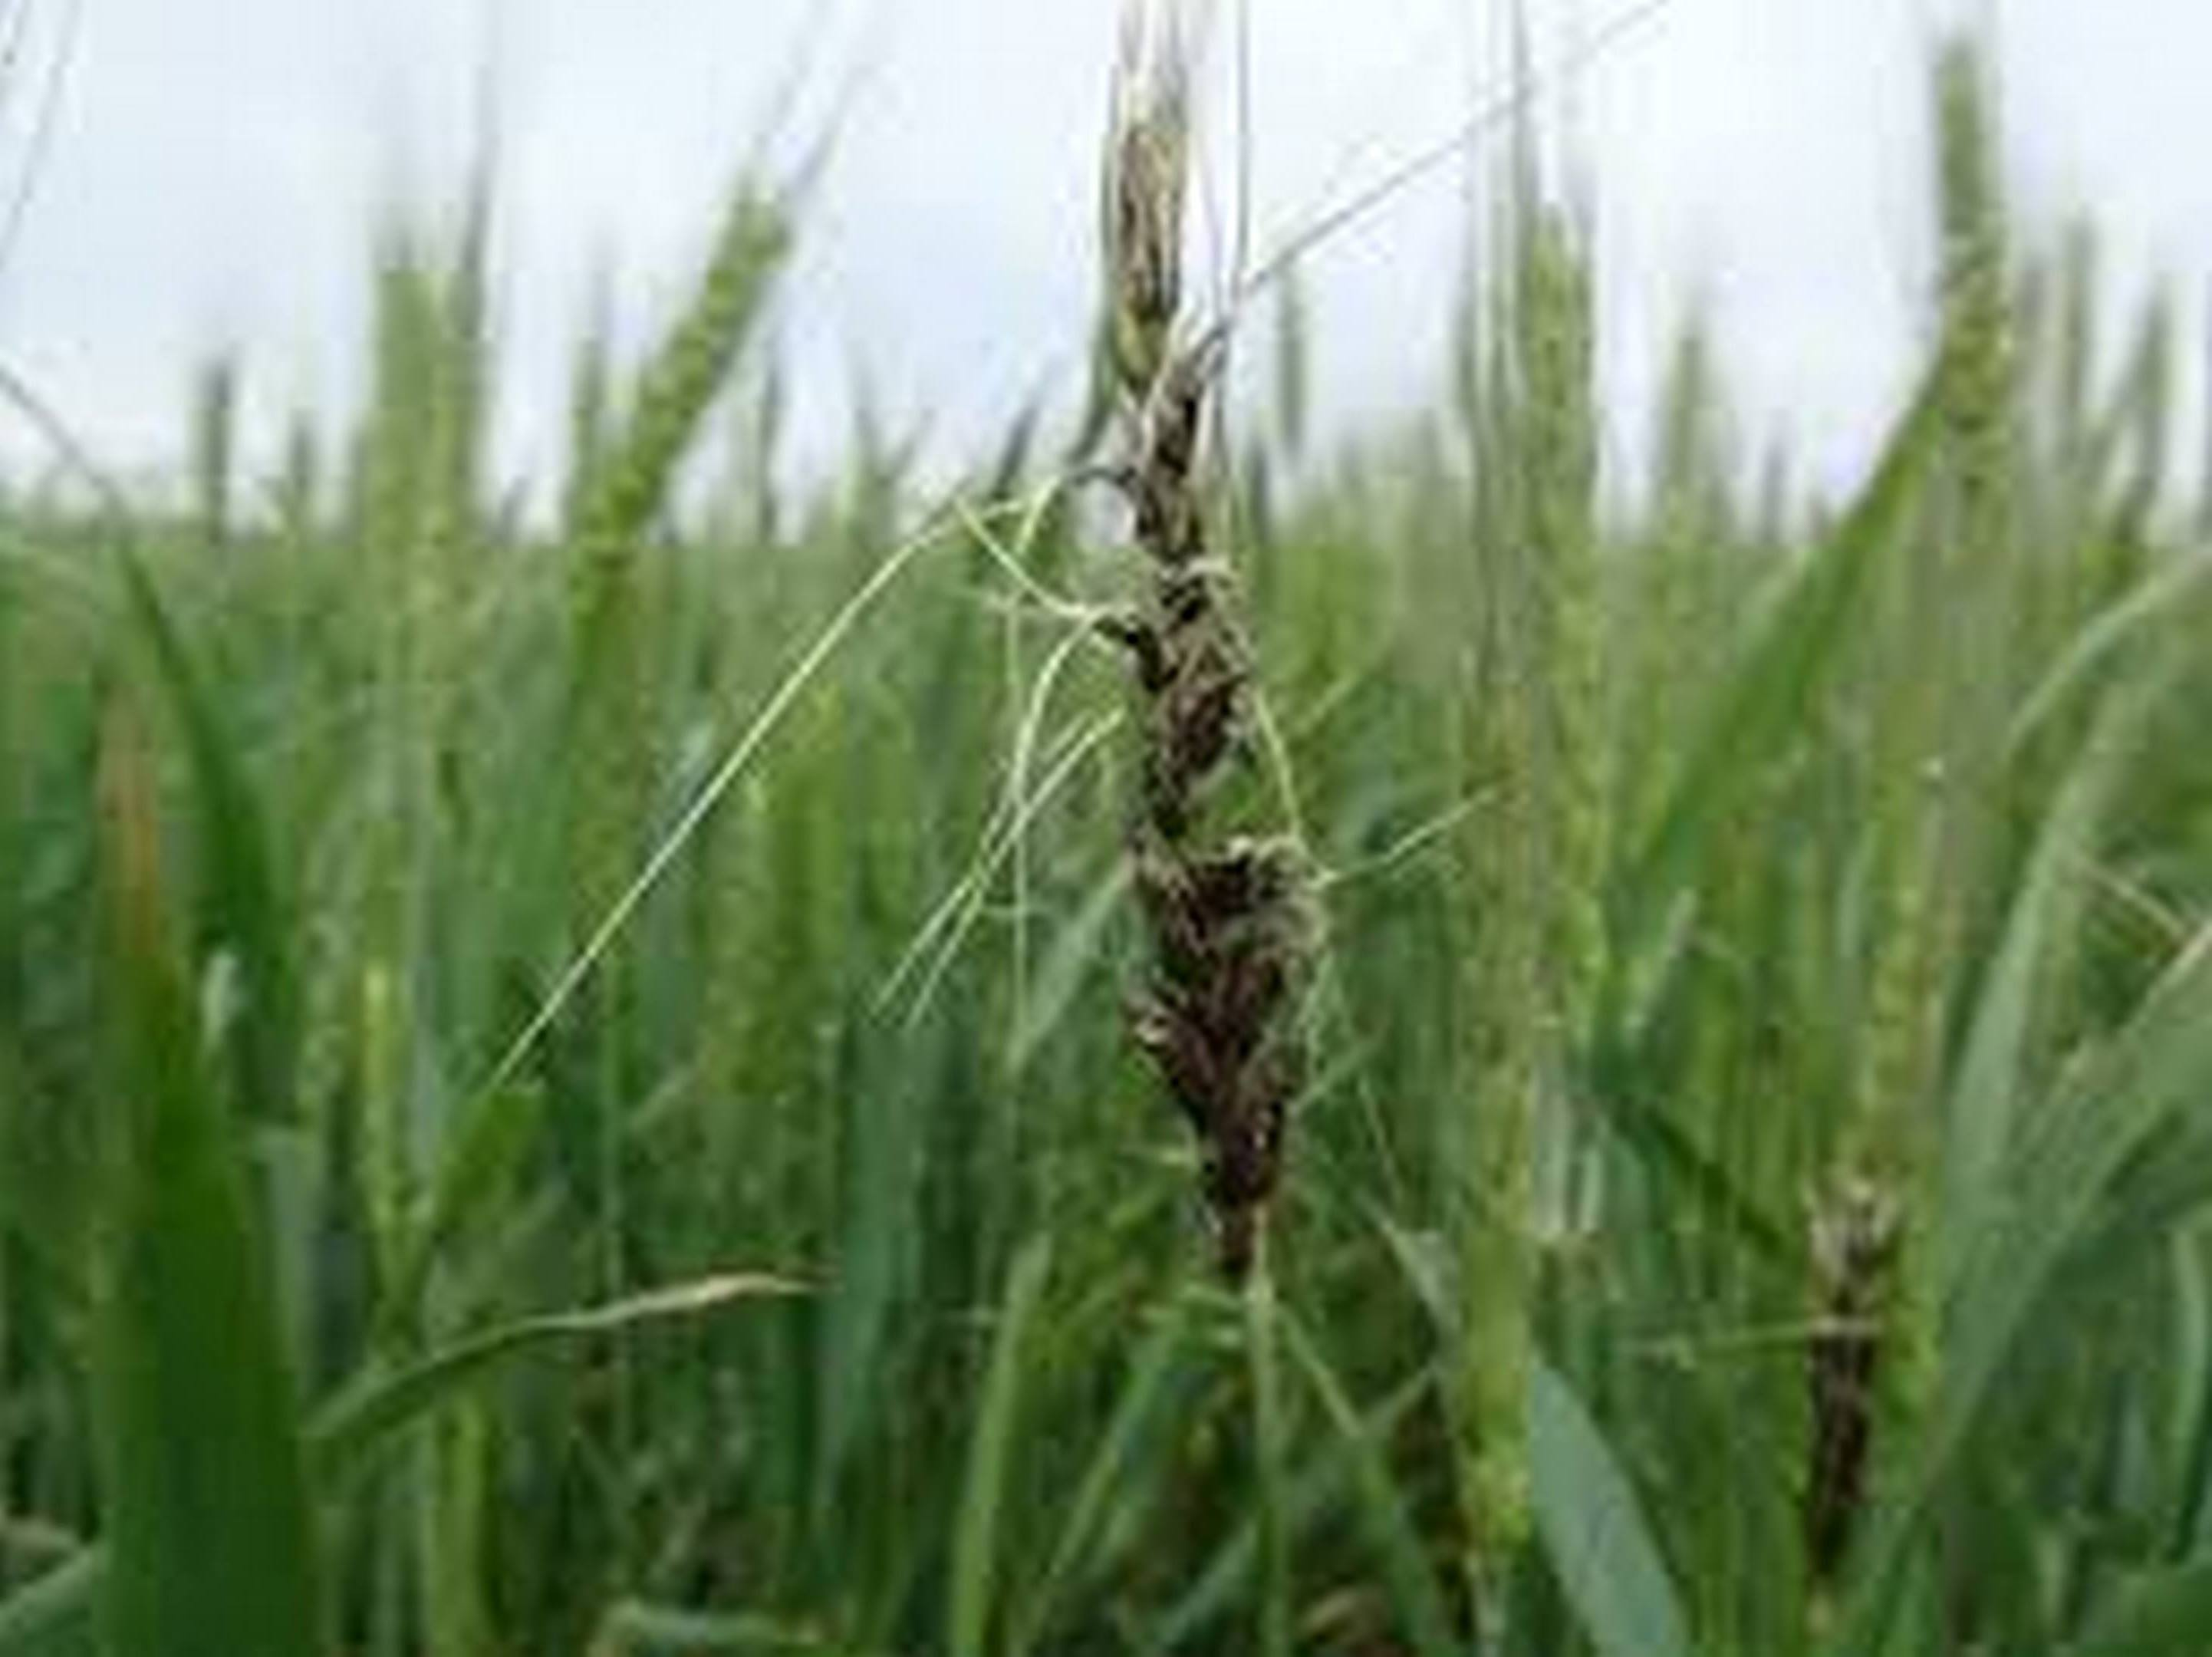Wheat Loose Smut: (1063, 216, 1335, 1203)
